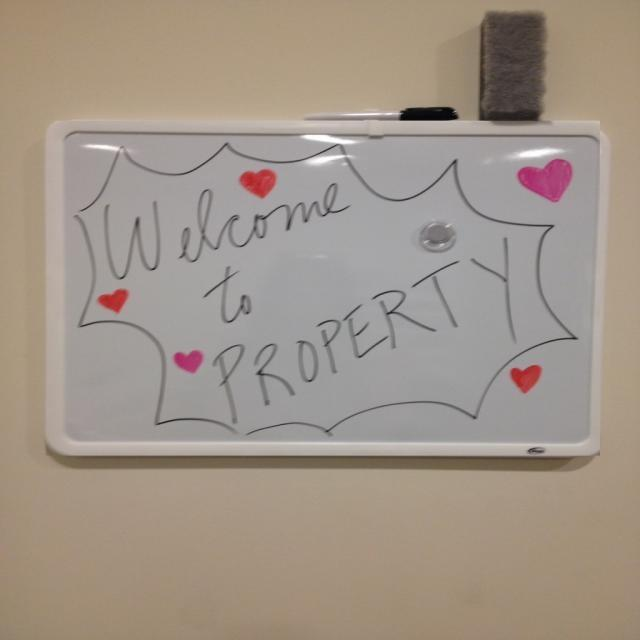Whiteboard: (43, 117, 610, 458)
